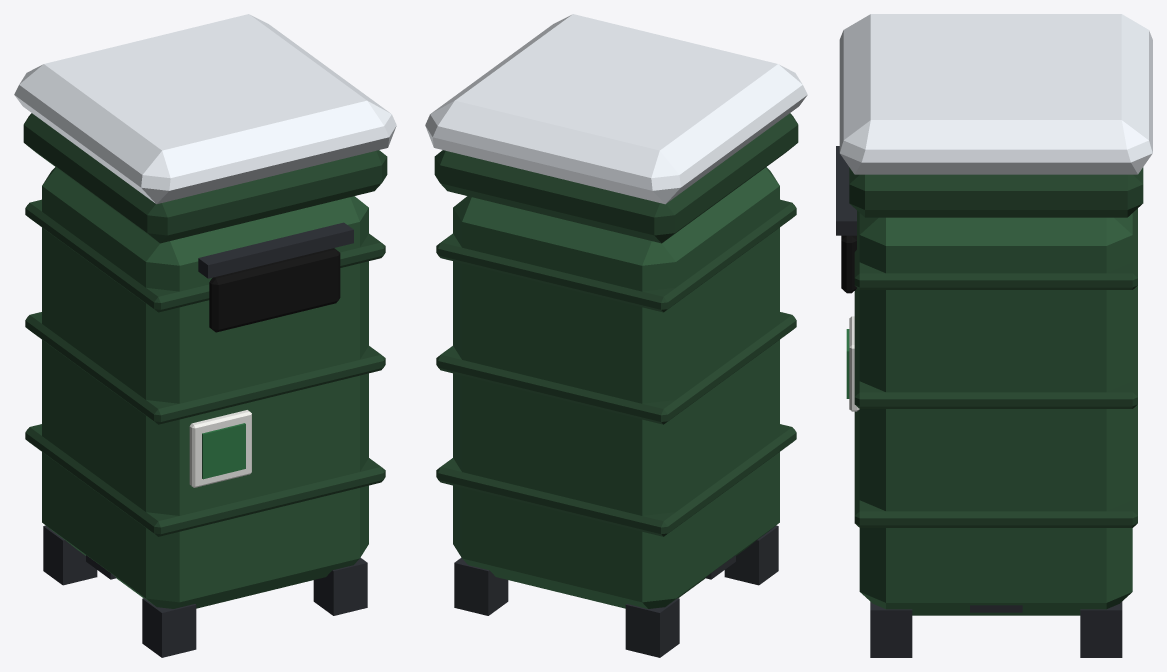
The model's file is bin.glb.
3 views of the same model, side by side, from view 1: azimuth 30°, elevation 25°; view 2: azimuth 150°, elevation 25°; view 3: azimuth 270°, elevation 25° (orthographic). The views are drawn at different scales.
Visible parts, largest first — view 1: bin; view 2: bin; view 3: bin.
Boxes of the visible parts, bbox=[...] form: bin: bbox=[14, 14, 396, 657]; bin: bbox=[425, 14, 807, 657]; bin: bbox=[836, 14, 1152, 657].
Bounding box in the file's own units: 0.5963 × 1.13 × 0.6032.
